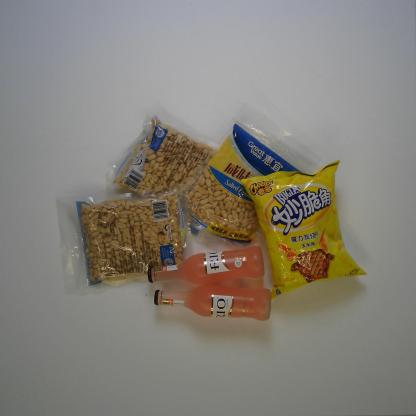Alcohol: (147, 245, 265, 287), (153, 284, 272, 322)
Dried Fruit: (175, 105, 324, 251), (103, 107, 221, 243), (56, 185, 196, 297)
Puffed Food: (240, 160, 368, 302)
